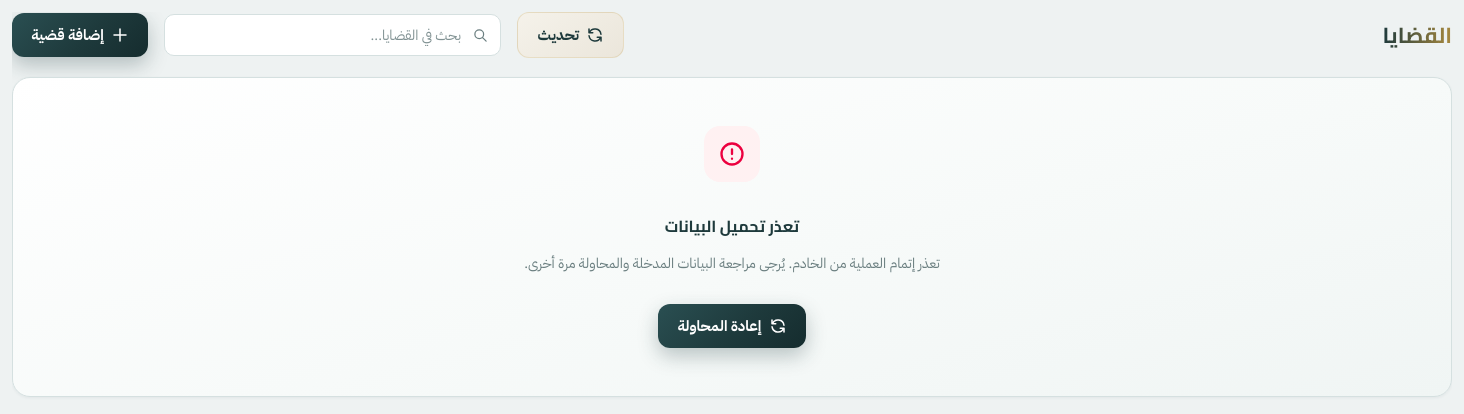
CasesPage Feature Tests › renders error state on API failure and retries successfully
The image size is (1464, 414).
Expected: the text "تعذر تحميل البيانات" is shown, [665, 211, 799, 241]
Click the button "إعادة المحاولة" at (732, 326), box [658, 304, 806, 348]
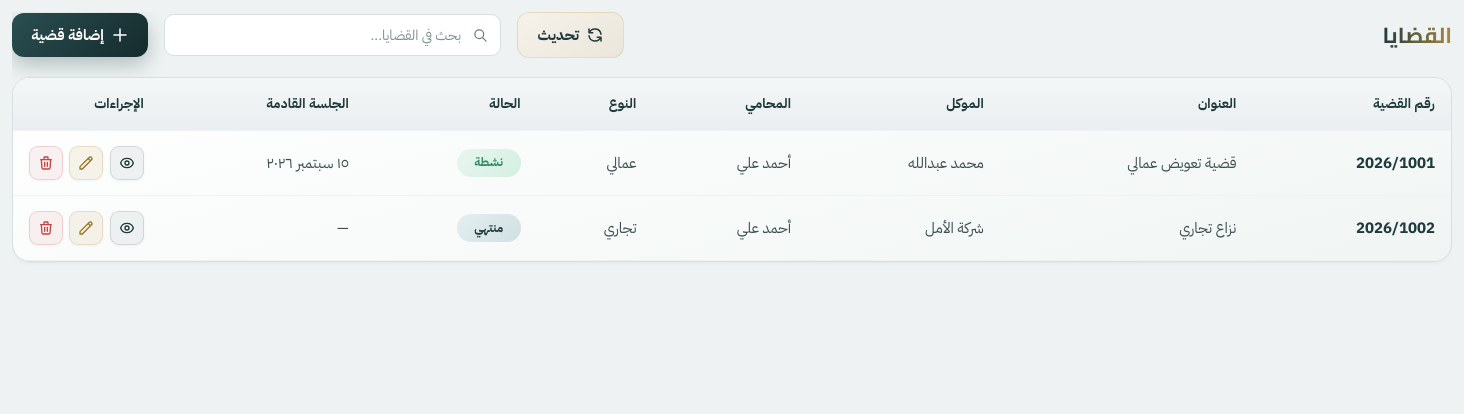
Result: the text "قضية تعويض عمالي" is shown at [1000, 130, 1252, 196]
